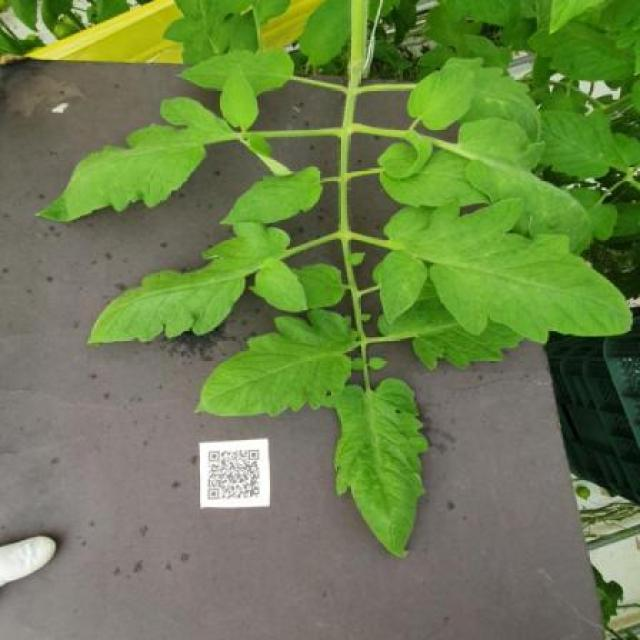Healthy: (378, 197, 632, 344), (87, 222, 306, 347), (35, 96, 232, 223), (317, 376, 430, 557), (193, 306, 358, 418), (174, 44, 299, 96), (220, 166, 323, 224), (405, 64, 476, 129), (294, 0, 349, 64), (220, 61, 260, 133)
